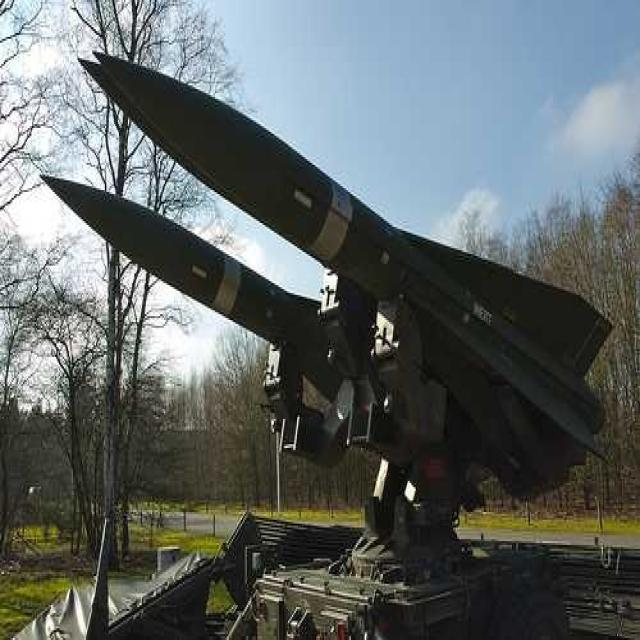missile: (95, 48, 619, 470), (39, 163, 357, 405)
